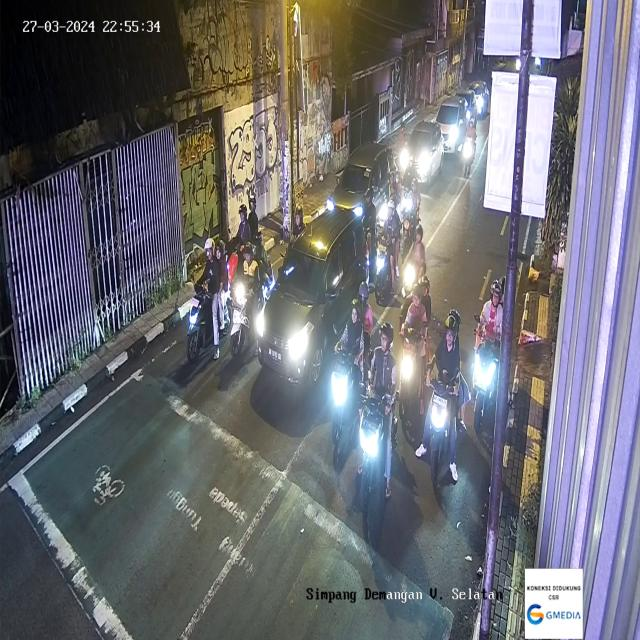car: (252, 207, 367, 387), (330, 143, 396, 223), (401, 116, 442, 186), (435, 98, 464, 150)
motorcycle: (428, 305, 464, 491), (359, 322, 393, 515), (330, 290, 368, 450), (475, 276, 511, 436), (187, 235, 229, 360), (399, 276, 432, 418), (232, 246, 266, 363), (374, 195, 404, 299), (461, 114, 475, 171)
